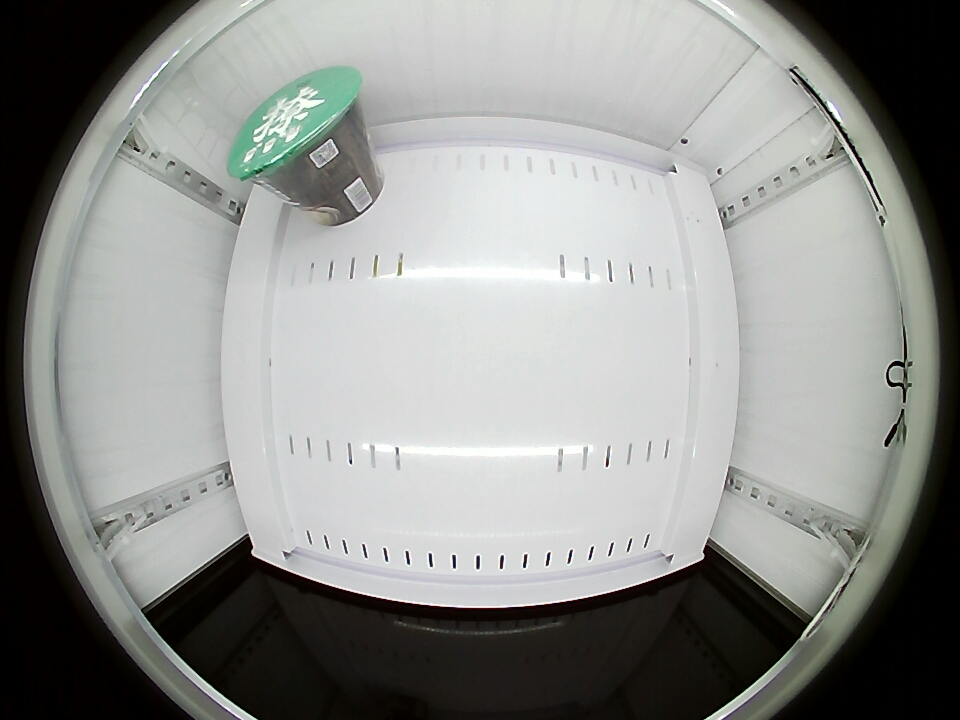liaomian: (228, 67, 364, 189)
